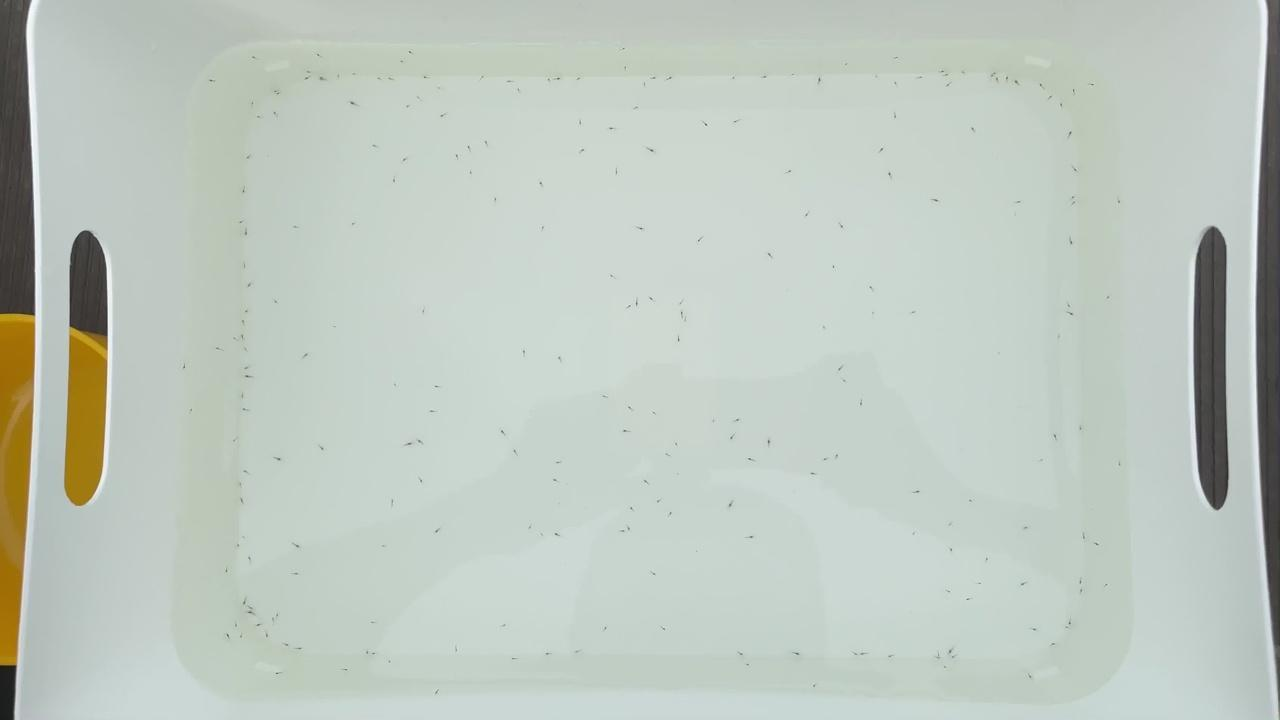shrimp: (967, 500, 980, 508), (1069, 163, 1082, 171), (1088, 80, 1101, 88), (989, 68, 1002, 76), (814, 79, 827, 87), (873, 146, 886, 154), (727, 74, 740, 82), (698, 118, 711, 126), (907, 307, 920, 315), (658, 622, 671, 630), (744, 534, 757, 542), (744, 456, 757, 464), (835, 362, 848, 370), (677, 312, 690, 320), (611, 174, 624, 182), (647, 296, 660, 304), (504, 79, 517, 87), (477, 74, 490, 82), (349, 69, 362, 77), (304, 69, 317, 77), (272, 85, 285, 93), (248, 52, 261, 60), (236, 218, 249, 226), (242, 229, 255, 237), (534, 179, 547, 187), (231, 334, 244, 342), (241, 346, 254, 354), (215, 345, 228, 353), (222, 633, 235, 641), (266, 617, 279, 625), (271, 667, 284, 675), (384, 501, 397, 509), (621, 428, 634, 436), (665, 450, 678, 458), (600, 622, 613, 630), (508, 656, 521, 664), (1115, 200, 1127, 208), (1069, 239, 1081, 247), (1069, 198, 1081, 206), (1069, 195, 1081, 203), (1012, 198, 1024, 206), (1103, 295, 1115, 303), (1064, 299, 1076, 307), (1065, 309, 1077, 317), (1053, 332, 1065, 340), (1050, 433, 1062, 441), (1078, 424, 1090, 432), (1037, 462, 1049, 470), (1114, 460, 1126, 468), (1077, 578, 1089, 586), (745, 661, 757, 669), (1022, 523, 1034, 531), (967, 124, 979, 132), (552, 74, 564, 82), (491, 201, 503, 209), (518, 346, 530, 354), (418, 306, 430, 314), (252, 617, 264, 625), (391, 384, 403, 392), (734, 417, 746, 425), (673, 440, 685, 448), (363, 650, 375, 658), (1080, 532, 1093, 539), (1092, 541, 1105, 548), (1100, 583, 1113, 590), (1065, 618, 1078, 625), (1061, 624, 1074, 631), (1026, 678, 1039, 685), (930, 654, 943, 661), (944, 644, 957, 651), (884, 654, 897, 661), (859, 649, 872, 656), (849, 649, 862, 656), (808, 684, 821, 691), (735, 648, 748, 655), (791, 649, 804, 656), (964, 598, 977, 605), (942, 587, 955, 594), (973, 582, 986, 589), (1020, 579, 1033, 586), (981, 558, 994, 565), (945, 547, 958, 554), (910, 533, 923, 540), (945, 521, 958, 528), (1065, 131, 1078, 138), (1069, 90, 1082, 97), (1056, 100, 1069, 107), (1045, 95, 1058, 102), (1035, 81, 1048, 88), (1009, 79, 1022, 86), (1001, 73, 1014, 80), (956, 66, 969, 73), (938, 66, 951, 73), (939, 71, 952, 78), (942, 81, 955, 88), (915, 73, 928, 80), (893, 81, 906, 88), (871, 73, 884, 80), (891, 57, 904, 64), (842, 61, 855, 68), (892, 113, 905, 120), (930, 199, 943, 206), (784, 70, 797, 77), (759, 75, 772, 82), (666, 74, 679, 81), (648, 73, 661, 80), (617, 46, 630, 53), (649, 47, 662, 54), (729, 118, 742, 125), (782, 169, 795, 176), (802, 209, 815, 216), (835, 223, 848, 230), (764, 251, 777, 258), (866, 309, 879, 316), (818, 327, 831, 334), (647, 570, 660, 577), (665, 510, 678, 517), (624, 529, 637, 536), (724, 500, 737, 507), (808, 473, 821, 480), (819, 452, 832, 459), (831, 452, 844, 459), (763, 436, 776, 443), (859, 399, 872, 406), (672, 334, 685, 341), (678, 294, 691, 301), (691, 238, 704, 245), (636, 226, 649, 233), (631, 301, 644, 308), (625, 303, 638, 310), (606, 273, 619, 280), (577, 150, 590, 157), (577, 120, 590, 127), (606, 126, 619, 133), (570, 78, 583, 85), (513, 89, 526, 96), (410, 48, 423, 55), (395, 60, 408, 67), (433, 81, 446, 88), (412, 94, 425, 101), (385, 75, 398, 82), (373, 75, 386, 82), (349, 101, 362, 108), (334, 75, 347, 82), (315, 74, 328, 81), (300, 75, 313, 82), (204, 78, 217, 85), (248, 101, 261, 108), (255, 116, 268, 123), (271, 110, 284, 117), (242, 157, 255, 164), (238, 189, 251, 196), (288, 227, 301, 234), (350, 223, 363, 230), (388, 179, 401, 186), (369, 159, 382, 166), (371, 142, 384, 149), (397, 157, 410, 164), (452, 154, 465, 161), (463, 142, 476, 149), (477, 137, 490, 144), (464, 165, 477, 172), (539, 222, 552, 229), (554, 355, 567, 362), (300, 351, 313, 358), (271, 299, 284, 306), (242, 282, 255, 289), (239, 263, 252, 270), (243, 308, 256, 315), (238, 330, 251, 337), (176, 364, 189, 371), (184, 406, 197, 413), (241, 365, 254, 372), (241, 372, 254, 379), (237, 394, 250, 401), (240, 402, 253, 409), (239, 496, 252, 503), (233, 541, 246, 548), (243, 556, 256, 563), (220, 567, 233, 574), (236, 599, 249, 606), (243, 600, 256, 607), (247, 609, 260, 616), (236, 629, 249, 636), (271, 612, 284, 619), (259, 631, 272, 638), (283, 642, 296, 649), (296, 642, 309, 649), (290, 539, 303, 546), (405, 445, 418, 452), (425, 408, 438, 415), (430, 381, 443, 388), (432, 528, 445, 535), (498, 426, 511, 433), (599, 392, 612, 399), (624, 405, 637, 412), (644, 410, 657, 417), (707, 414, 720, 421), (727, 433, 740, 440), (643, 479, 656, 486), (654, 500, 667, 507), (628, 507, 641, 514), (550, 474, 563, 481), (553, 462, 566, 469), (547, 528, 560, 535), (537, 530, 550, 537), (522, 525, 535, 532), (575, 647, 588, 654), (543, 650, 556, 657), (499, 622, 512, 629), (450, 640, 463, 647), (369, 652, 382, 659), (340, 669, 353, 676), (371, 617, 384, 624), (1077, 586, 1089, 593), (1050, 640, 1062, 647), (1028, 624, 1040, 631), (939, 662, 951, 669), (950, 652, 962, 659), (912, 487, 924, 494), (989, 75, 1001, 82), (884, 168, 896, 175), (640, 79, 652, 86), (618, 64, 630, 71), (629, 102, 641, 109), (828, 264, 840, 271), (867, 284, 879, 291), (618, 530, 630, 537), (840, 376, 852, 383), (645, 142, 657, 149), (546, 75, 558, 82), (419, 72, 431, 79), (402, 104, 414, 111), (313, 51, 325, 58), (441, 110, 453, 117), (241, 316, 253, 323), (230, 436, 242, 443), (275, 455, 287, 462), (319, 444, 331, 451), (241, 466, 253, 473), (236, 477, 248, 484), (230, 618, 242, 625), (291, 574, 303, 581), (413, 439, 425, 446), (380, 547, 392, 554), (413, 475, 425, 482), (507, 448, 519, 455), (430, 688, 442, 695), (385, 657, 397, 664)
